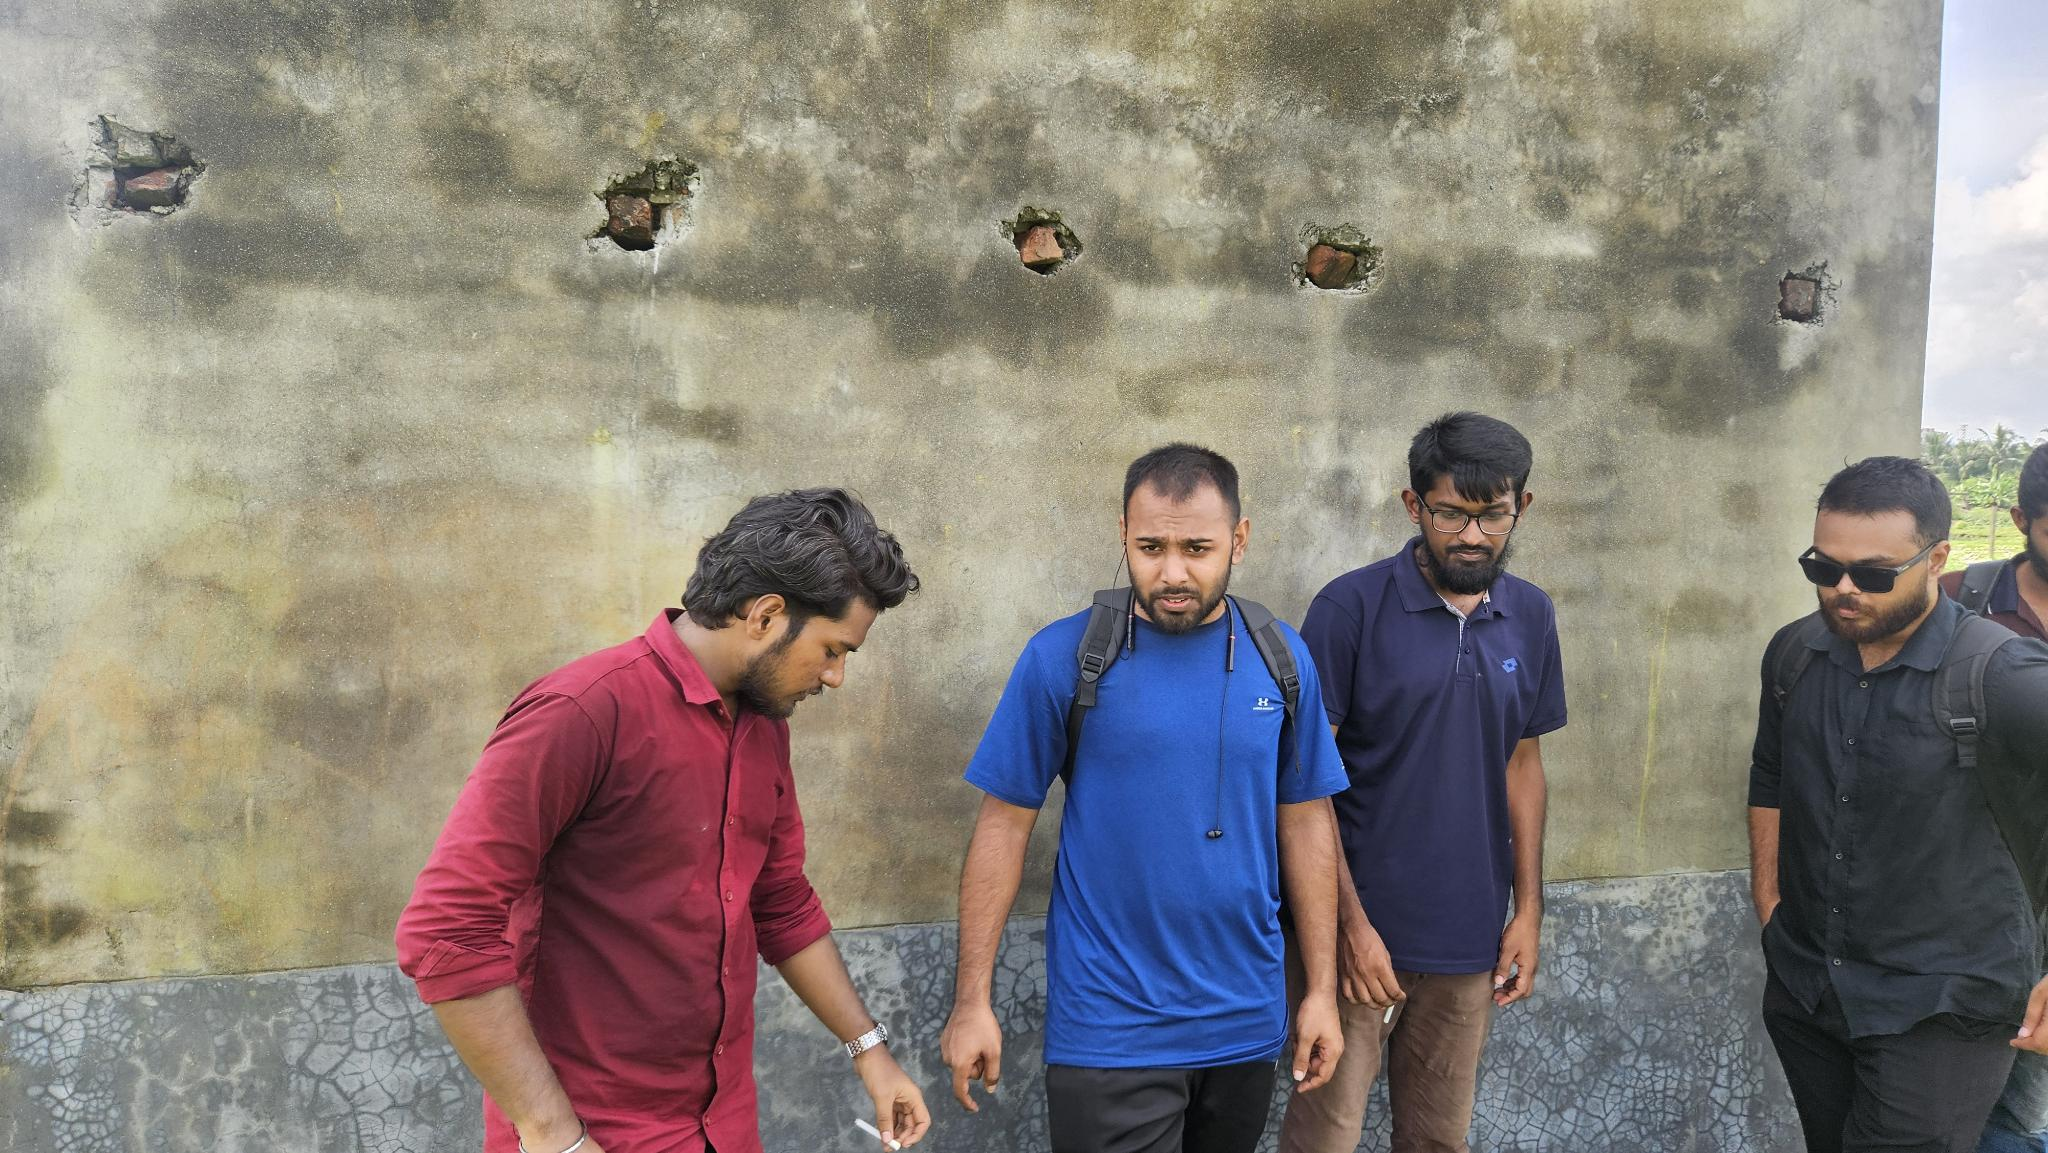cigarette: (852, 1115, 904, 1153), (1380, 998, 1398, 1025)
nonSmoker: (947, 436, 1343, 1153), (1748, 444, 2048, 1153)
smoker: (387, 484, 927, 1153), (1283, 409, 1564, 1153)
